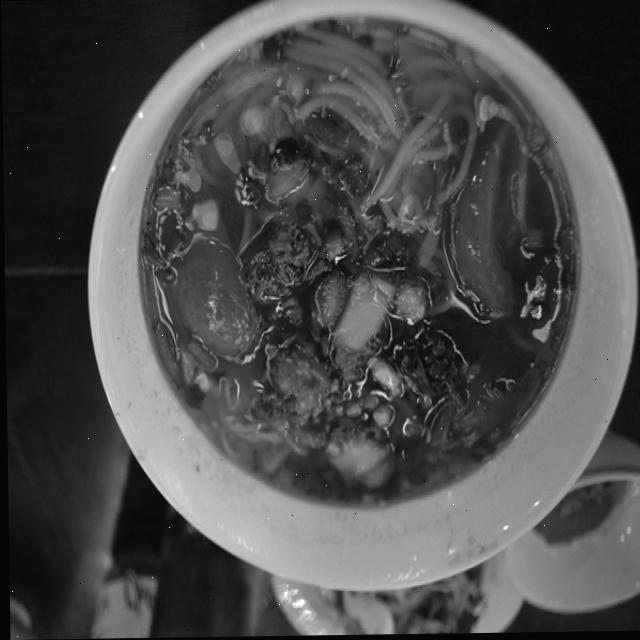面条主食: (46, 0, 638, 602)
